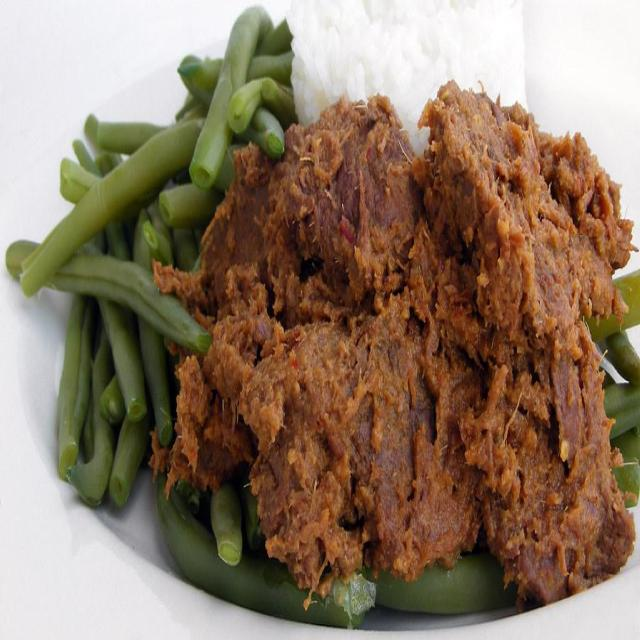Rendang: (173, 102, 639, 640)
